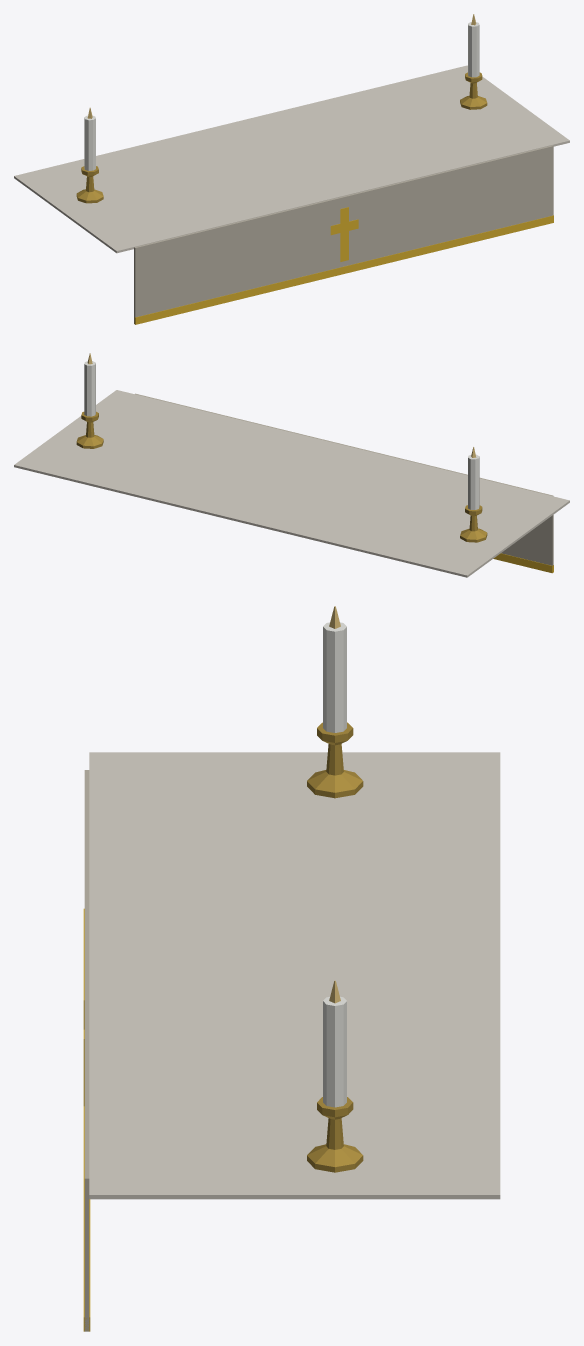
File: garniture_autel.glb
The picture shows the model from 3 angles, top to bottom: view 1: azimuth 30°, elevation 25°; view 2: azimuth 150°, elevation 25°; view 3: azimuth 270°, elevation 25°; orthographic projection. The views are drawn at different scales.
Visible parts, largest first — view 1: cloth, frontal, fringe, cross, candle_r, candle_l, stick_l, stick_r; view 2: cloth, frontal, candle_r, candle_l, stick_l, stick_r, fringe; view 3: cloth, frontal, candle_l, candle_r, stick_r, stick_l, fringe.
Boxes of the visible parts, x1=… form: cloth: x1=14, y1=65, x2=569, y2=253; frontal: x1=134, y1=145, x2=553, y2=323; fringe: x1=134, y1=215, x2=553, y2=324; cross: x1=330, y1=207, x2=358, y2=261; candle_r: x1=468, y1=22, x2=479, y2=77; candle_l: x1=84, y1=115, x2=95, y2=170; stick_l: x1=76, y1=166, x2=103, y2=203; stick_r: x1=460, y1=72, x2=487, y2=109; cloth: x1=14, y1=390, x2=569, y2=577; frontal: x1=135, y1=393, x2=553, y2=565; candle_r: x1=84, y1=361, x2=95, y2=416; candle_l: x1=468, y1=454, x2=479, y2=509; stick_l: x1=460, y1=505, x2=487, y2=542; stick_r: x1=76, y1=411, x2=103, y2=448; fringe: x1=493, y1=553, x2=553, y2=573; cloth: x1=89, y1=752, x2=500, y2=1199; frontal: x1=84, y1=770, x2=89, y2=1331; candle_l: x1=323, y1=622, x2=346, y2=732; candle_r: x1=323, y1=996, x2=346, y2=1107; stick_r: x1=307, y1=1097, x2=363, y2=1172; stick_l: x1=307, y1=722, x2=363, y2=798; fringe: x1=83, y1=908, x2=90, y2=1331.
Bounding box in the file's own units: 2.6 × 0.915 × 1.03.
6 materials, 6 textured.
